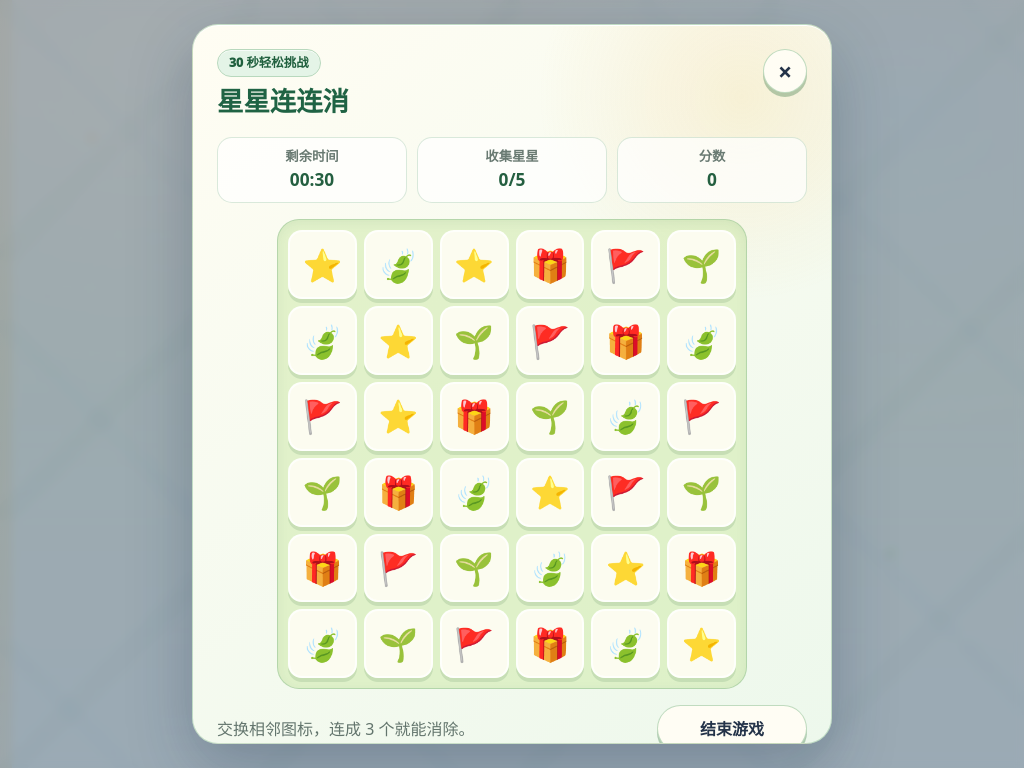
it: MiniGamePanel › resolves a three-match, adds score and collects star tiles
The width and height of the screenshot is (1024, 768).
What coordinates should you click on to do the following:
click the cell named "第 1 行第 2 列，叶子"
I would click on:
 (398, 265)
Its box is [364,230,433,299].
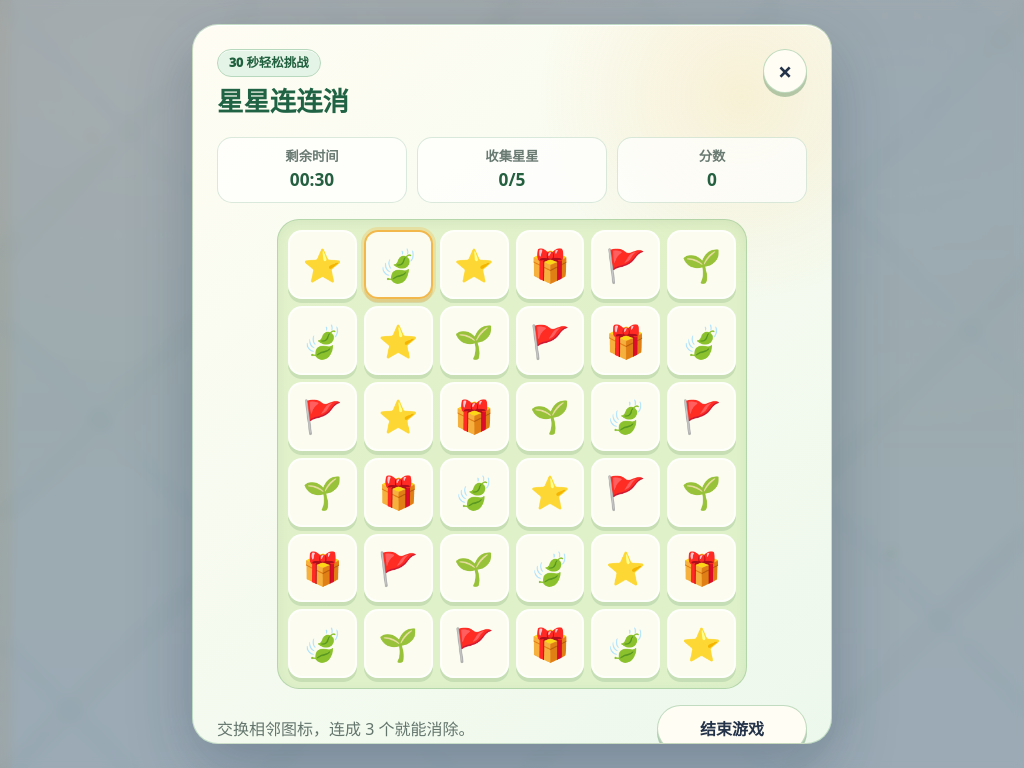
What coordinates should you click on to do the following:
click the cell named "第 2 行第 2 列，星星"
I would click on:
 (398, 340)
Its box is [364,306,433,375].
Wait 200 ms
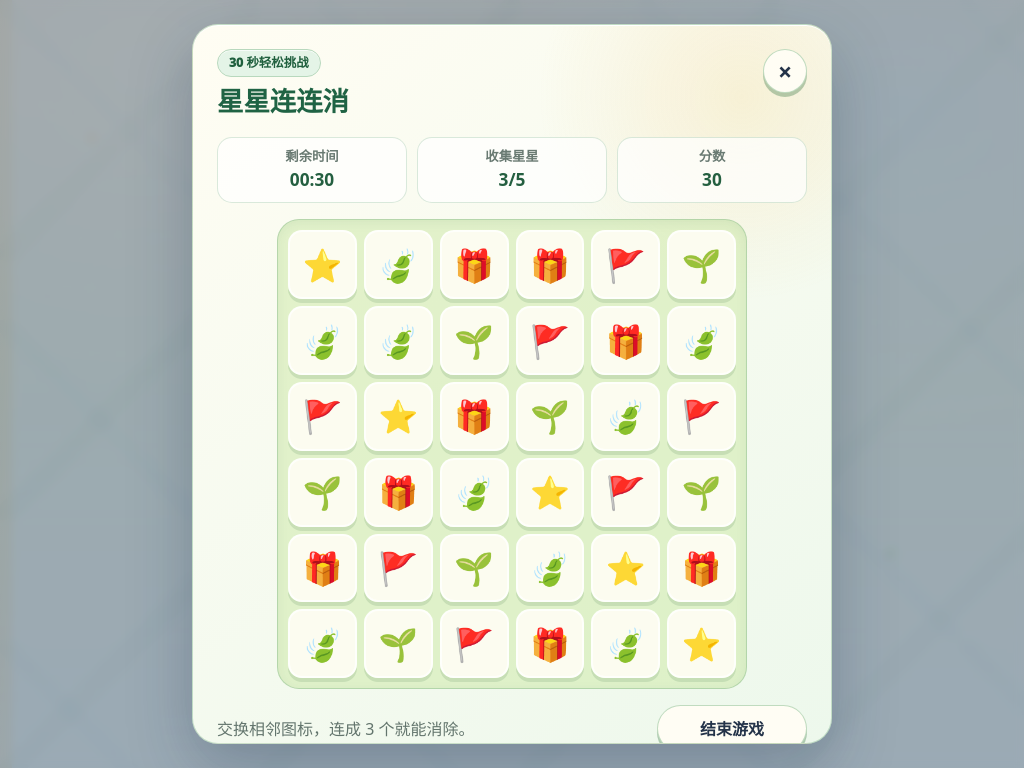
Expected: the text "00:30" is shown, [290,167,334,193]
Now the text "3/5" is shown, box [498,167,525,193]
